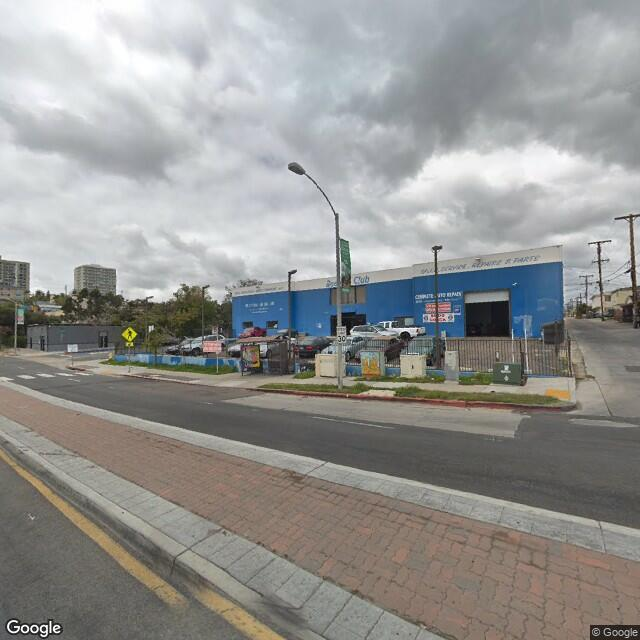light: (283, 157, 307, 176)
